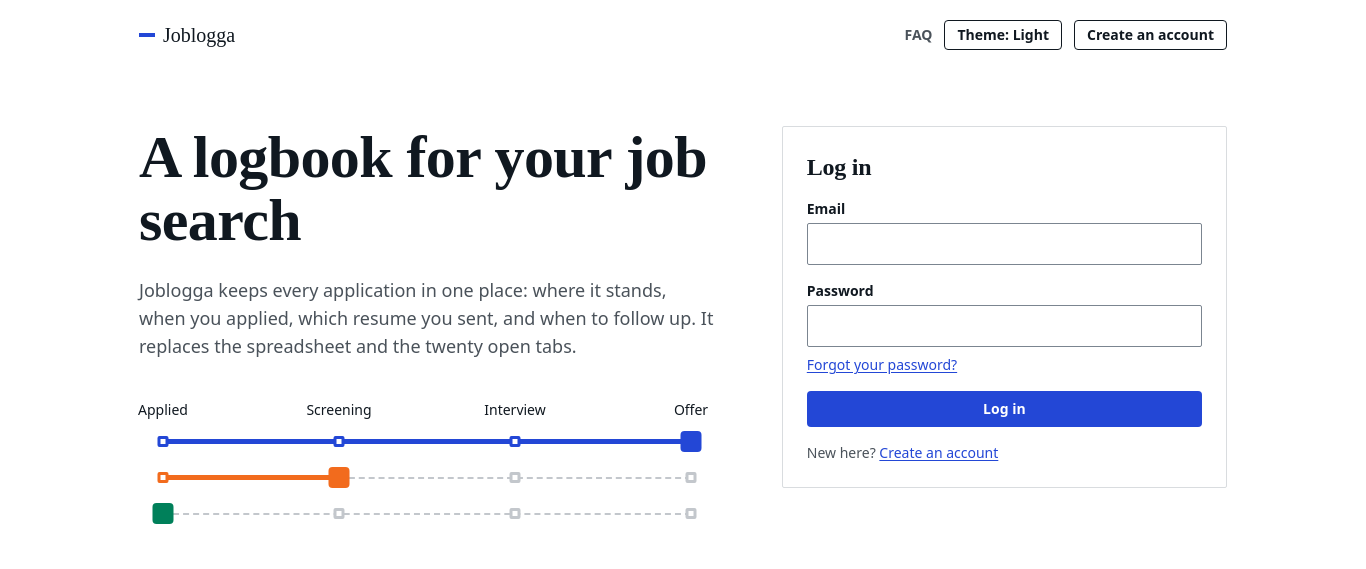
redirects from protected pages are preserved › sends a logged-out visitor to the landing page, then back to the page they wanted
Expected: the heading "A logbook for your job search" is shown, [139,126,718,252]
Type "me@example.com" into the field labelled "Email" at point(1004, 244), box [807,223,1202,265]
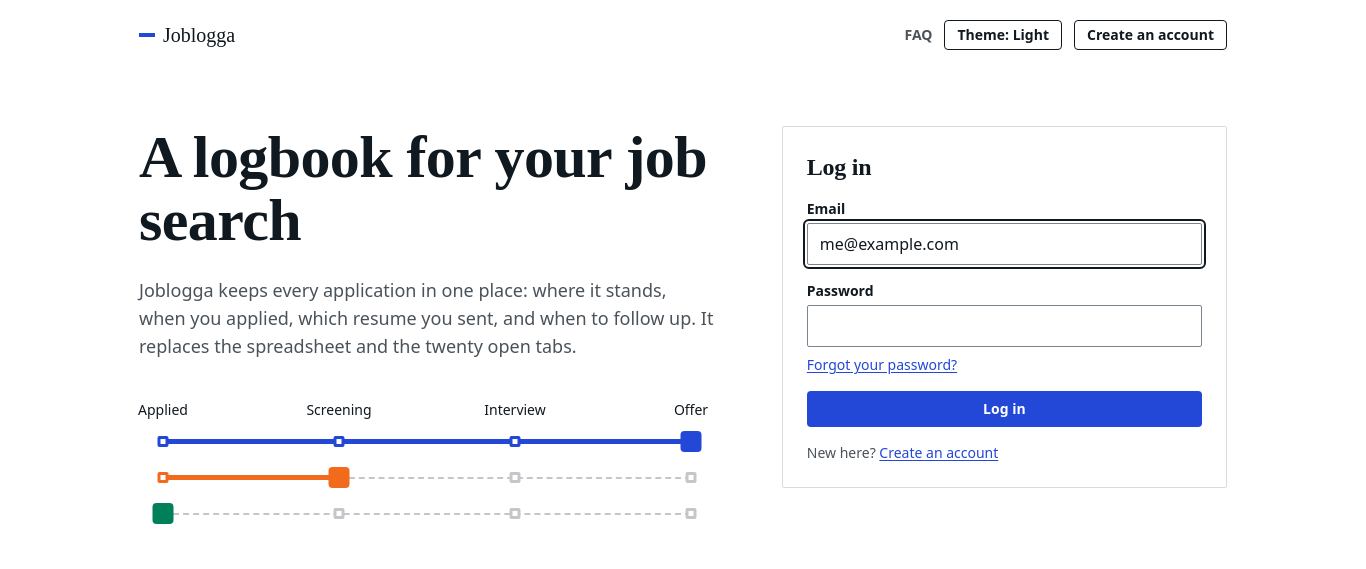
Type "correct-horse-battery" into the password field labelled "Password" at point(1004, 326), box [807,305,1202,347]
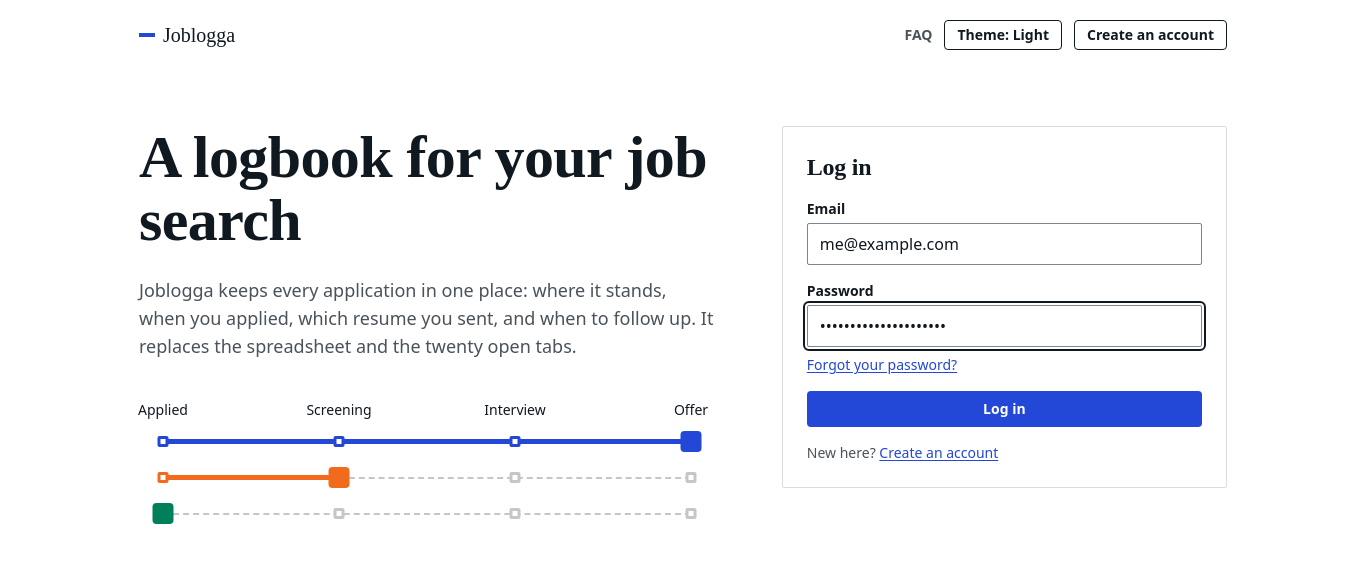
Click the button "Log in" at point(1004, 409), box [807,391,1202,427]
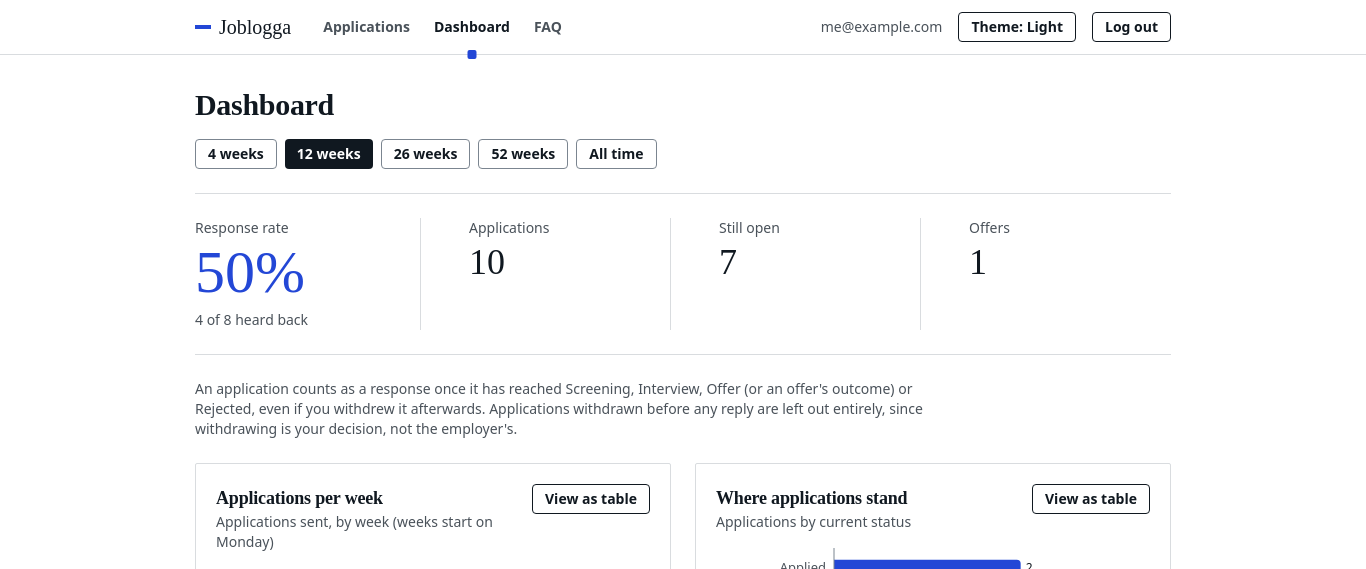
Now the heading "Dashboard" is shown, box [195,88,334,121]
